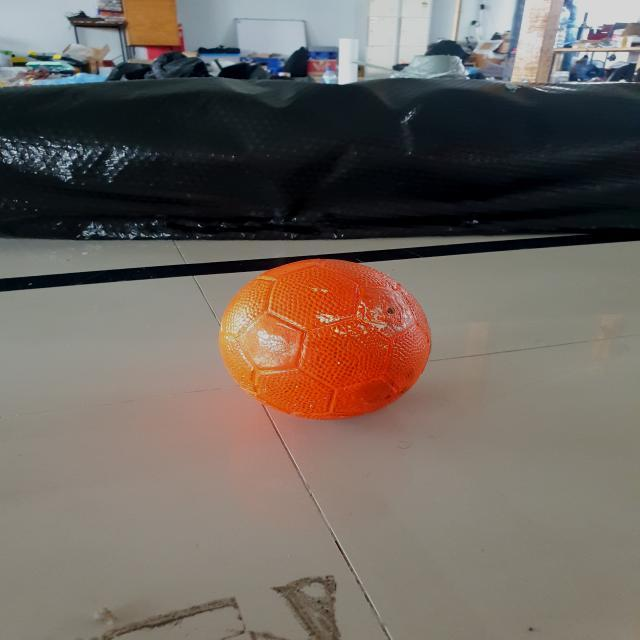bola: (215, 250, 443, 435)
